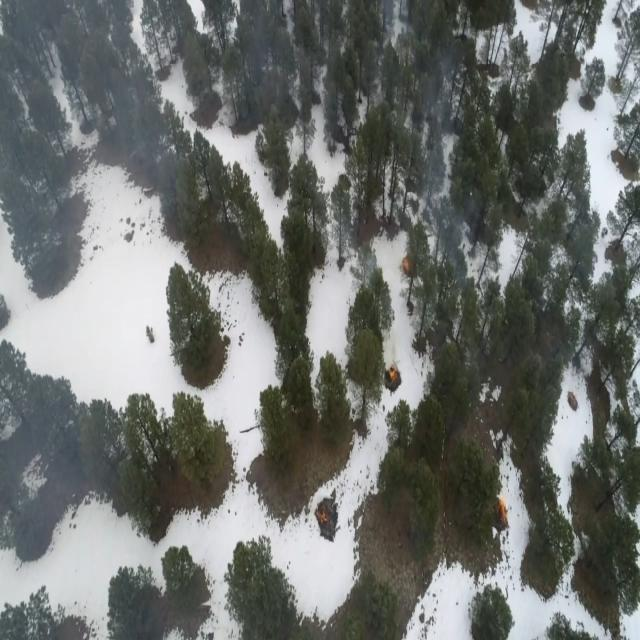Fire: (380, 358, 401, 388), (398, 243, 414, 280), (499, 496, 513, 535)
